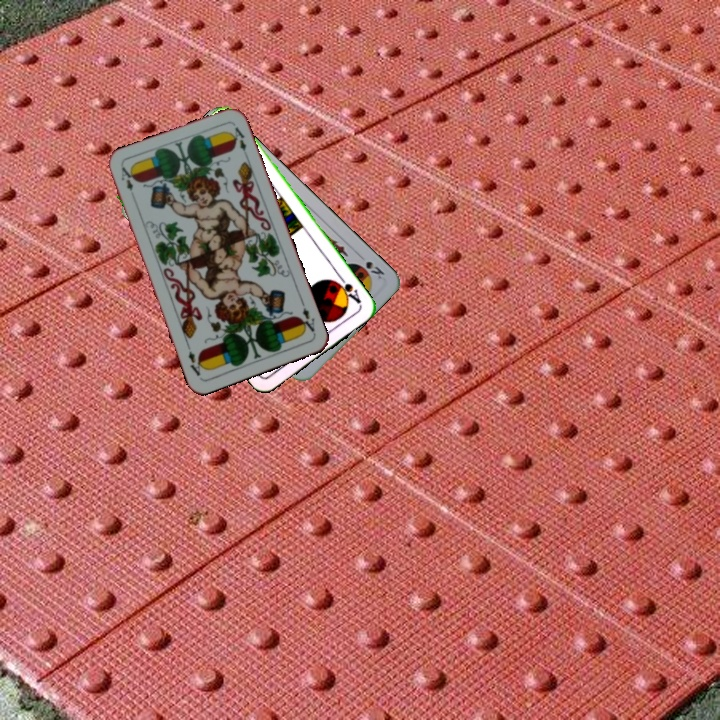EA: (295, 297, 318, 336), (117, 163, 136, 193)
SA: (330, 272, 364, 306)
SK: (354, 250, 387, 282)
